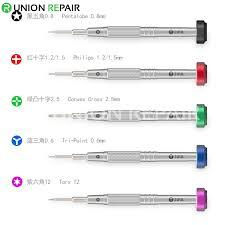screwdriver: (46, 102, 208, 128), (46, 19, 208, 44), (47, 186, 208, 211), (47, 143, 207, 168), (48, 60, 207, 85)
